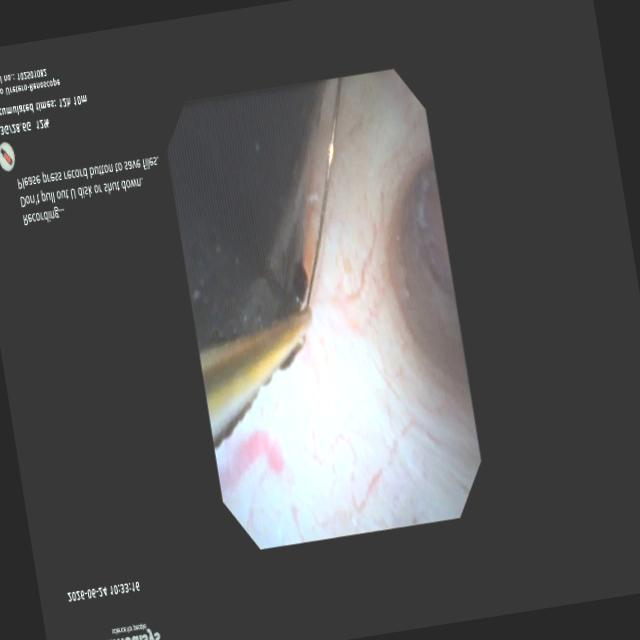stone-new: (168, 84, 321, 348), (214, 392, 257, 449), (277, 334, 306, 370)
